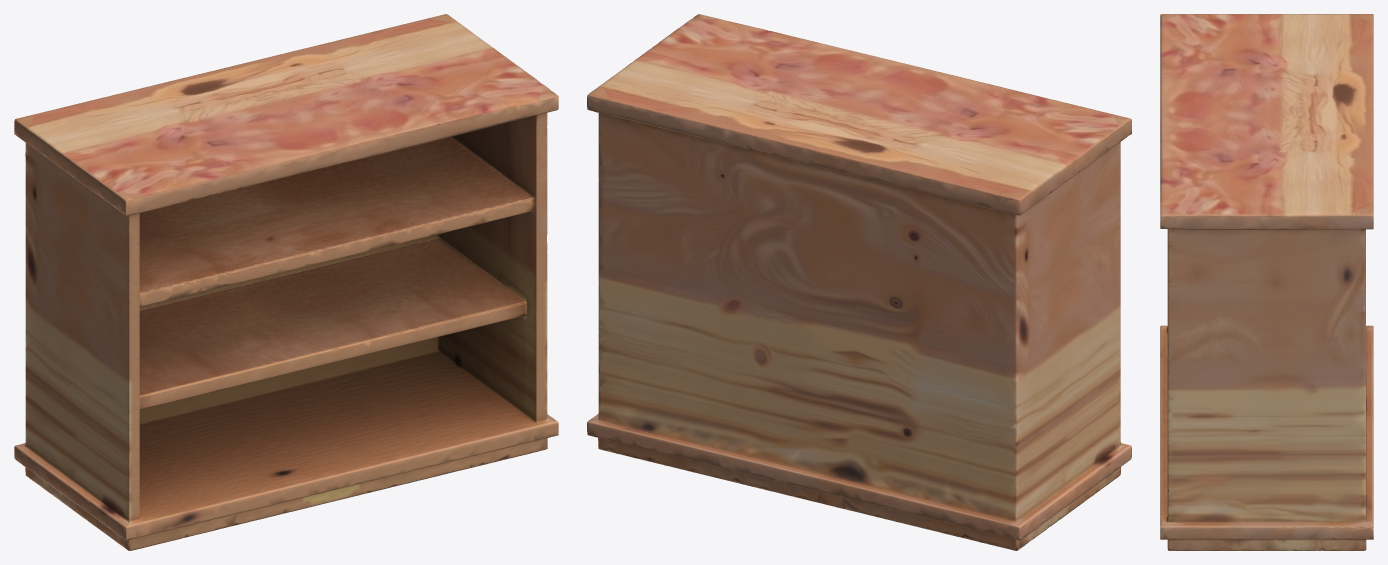
File: cardShelf.glb
3 renders of one model, left to right at view 1: azimuth 30°, elevation 25°; view 2: azimuth 150°, elevation 25°; view 3: azimuth 270°, elevation 25°, orthographic. The views are drawn at different scales.
Parts seen in each view (by area): view 1: Mesh1.0; view 2: Mesh1.0; view 3: Mesh1.0.
Boxes of the visible parts, left/top/right/bottom form: Mesh1.0: left=14, top=14, right=558, bottom=550; Mesh1.0: left=587, top=14, right=1131, bottom=550; Mesh1.0: left=1160, top=14, right=1373, bottom=550.
Bounding box in the file's own units: 1.91 × 1.5 × 0.8556.
Materials: 1 (1 with a texture image).
